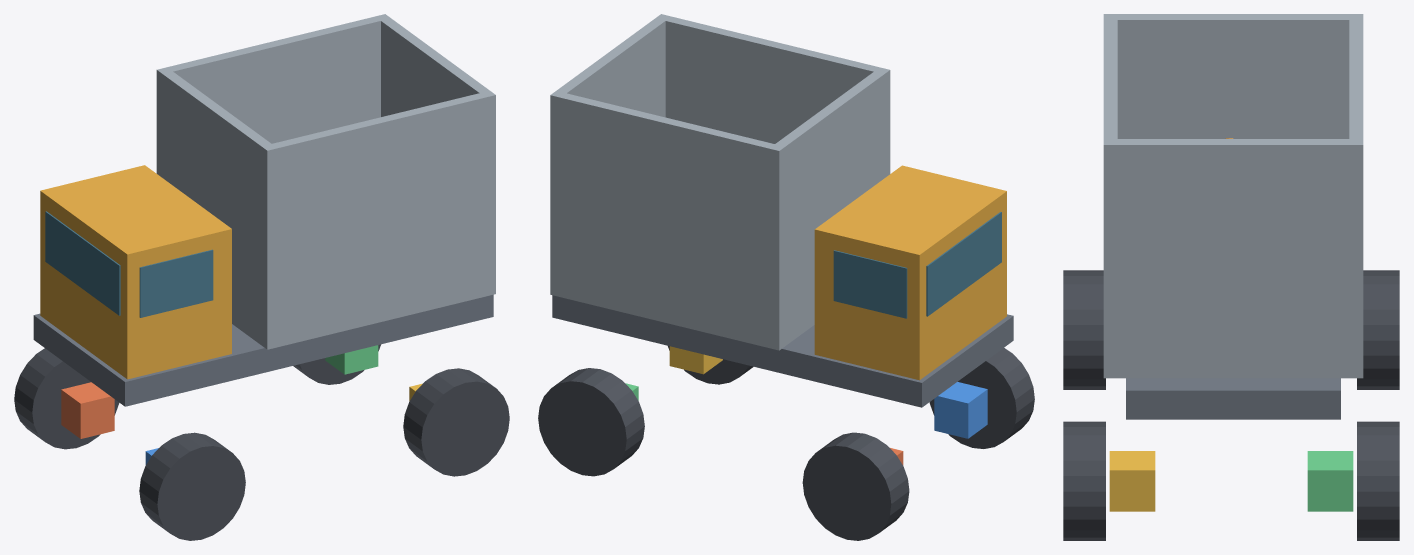
File: DumpTruck.glb
3 renders of one model, left to right at view 1: azimuth 30°, elevation 25°; view 2: azimuth 150°, elevation 25°; view 3: azimuth 270°, elevation 25°, orthographic. The views are drawn at different scales.
Visible parts, largest first — view 1: DumpBucket.001, MotorChassis.001, MotorWheelRightRear.001, MotorWheelRightFront.001, MotorWheelLeftRear.001, Cube.007, Cube.005, MotorWheelLeftFront.001; view 2: DumpBucket.001, MotorChassis.001, MotorWheelLeftFront.001, MotorWheelLeftRear.001, MotorWheelRightRear.001, Cube.006, Cube.004, MotorWheelRightFront.001; view 3: DumpBucket.001, MotorChassis.001, MotorWheelLeftFront.001, MotorWheelRightFront.001, MotorWheelRightRear.001, MotorWheelLeftRear.001, Cube.004, Cube.005.
Part boxes in pixels (x1,y1,x2,y2): DumpBucket.001: [156, 14, 495, 349]; MotorChassis.001: [33, 165, 493, 406]; MotorWheelRightRear.001: [139, 432, 245, 540]; MotorWheelRightFront.001: [403, 368, 509, 476]; MotorWheelLeftRear.001: [14, 348, 119, 449]; Cube.007: [61, 382, 114, 438]; Cube.005: [325, 345, 378, 374]; MotorWheelLeftFront.001: [293, 344, 380, 384]; DumpBucket.001: [550, 14, 890, 350]; MotorChassis.001: [552, 165, 1013, 407]; MotorWheelLeftFront.001: [538, 368, 644, 476]; MotorWheelLeftRear.001: [802, 432, 909, 540]; MotorWheelRightRear.001: [929, 348, 1034, 448]; Cube.006: [934, 382, 987, 438]; Cube.004: [669, 346, 722, 374]; MotorWheelRightFront.001: [668, 346, 753, 384]; DumpBucket.001: [1103, 14, 1363, 378]; MotorChassis.001: [1126, 378, 1340, 419]; MotorWheelLeftFront.001: [1357, 421, 1399, 540]; MotorWheelRightFront.001: [1063, 421, 1105, 540]; MotorWheelRightRear.001: [1063, 270, 1105, 389]; MotorWheelLeftRear.001: [1357, 270, 1399, 389]; Cube.004: [1109, 451, 1155, 511]; Cube.005: [1307, 451, 1353, 511].
Size of what is drawn, in the model's own units: 5 by 4.62 by 3.37.
